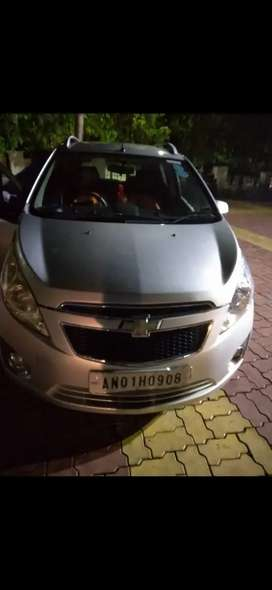AN01H0908: (89, 366, 192, 391)
